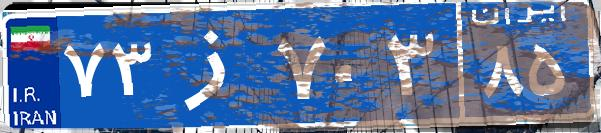0: (330, 28, 385, 110)
3: (385, 28, 445, 110), (110, 28, 158, 105)
5: (525, 38, 570, 115)
7: (273, 28, 330, 110), (57, 26, 110, 107)
8: (475, 38, 525, 113)
ز: (158, 15, 273, 115)
